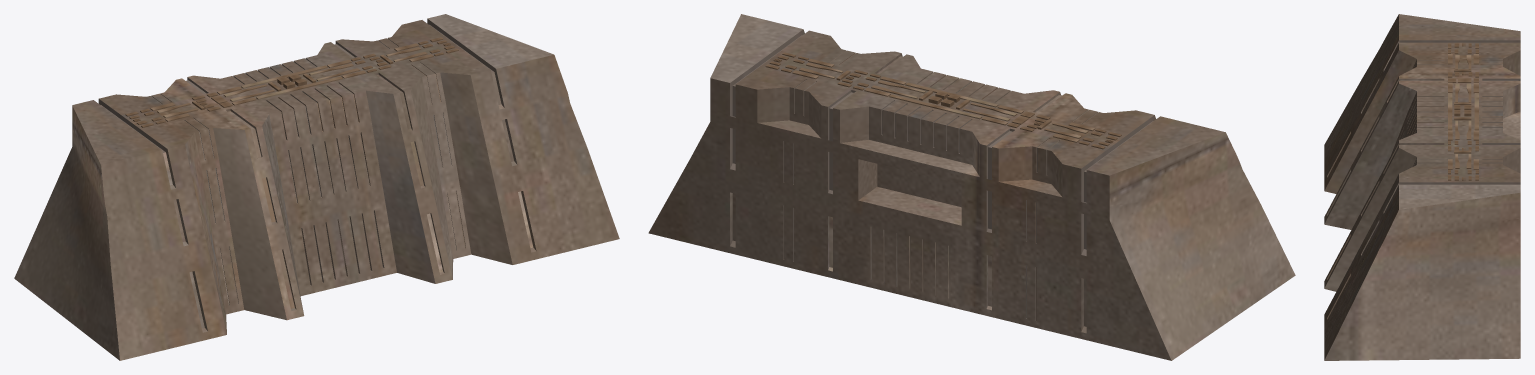
File: xi_dsp_wall.gltf
3 renders of one model, left to right at view 1: azimuth 30°, elevation 25°; view 2: azimuth 150°, elevation 25°; view 3: azimuth 270°, elevation 25°, orthographic. The views are drawn at different scales.
Parts seen in each view (by area): view 1: xi_dsp_wall; view 2: xi_dsp_wall; view 3: xi_dsp_wall.
Boxes of the visible parts, x1,y1,x2,y2 form: xi_dsp_wall: (14, 14, 619, 360); xi_dsp_wall: (648, 14, 1295, 360); xi_dsp_wall: (1324, 14, 1520, 360).
Size of the model in its own units: 47.03 by 14.62 by 18.08.
Materials: 3 (3 with a texture image).
